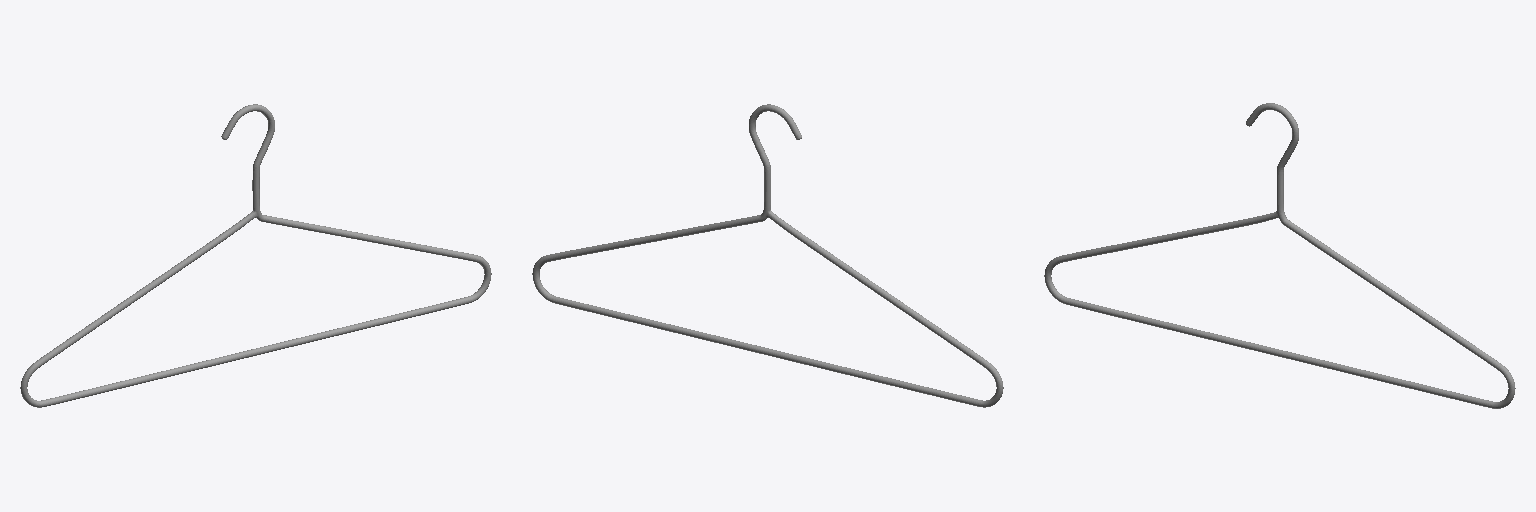
robot.urdf — hanger:
<?xml version="1.0" ?>
<robot name="hanger">
  <link name="hanger">
    <visual>
      <origin rpy="1.57 0 0" xyz="0 0 0"/>
      <geometry>
        <!-- <sphere radius=".0375"/> -->
          <mesh filename="meshes/Chrome Metal Hanger.obj"/>
      </geometry>
      <material name="Grey">
        <color rgba="0.65 0.65 0.65 1"/>
      </material>
    </visual>
    <collision>
      <origin rpy="1.57 0 0" xyz="0 0 0"/>
      <geometry>
        <!-- <sphere radius=".0375"/> -->
        <mesh filename="meshes/Chrome Metal Hanger.obj"/>
      </geometry>
    </collision>
  </link>
</robot>

--- Render facts (derived) ---
The picture shows the robot from 3 angles, left to right: view 1: azimuth 30°, elevation 25°; view 2: azimuth 150°, elevation 25°; view 3: azimuth 330°, elevation 25°; orthographic projection.
Model hanger with 1 links and 0 joints (none), rooted at hanger, posed every joint at zero.
Links seen in each view (by area): view 1: hanger; view 2: hanger; view 3: hanger.
Link boxes in pixels (<box>): hanger: <box>20,104,491,407</box>; hanger: <box>532,104,1003,407</box>; hanger: <box>1044,103,1515,408</box>.
Bounding box of the posed robot: 0.4402 × 0.0059 × 0.2248 m (x, y, z).
Meshes: 1 distinct files referenced, 1 mesh visuals loaded (1 OBJ).
